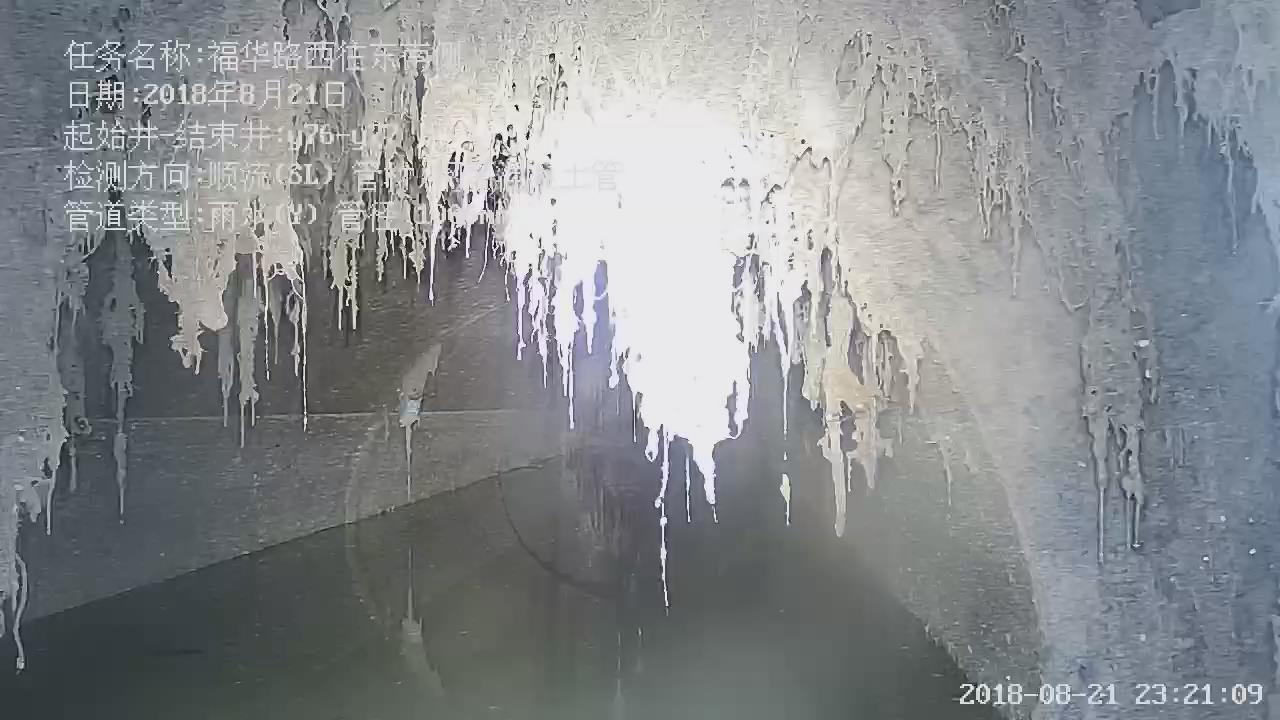SG: (0, 0, 1267, 719), (371, 344, 442, 468)
